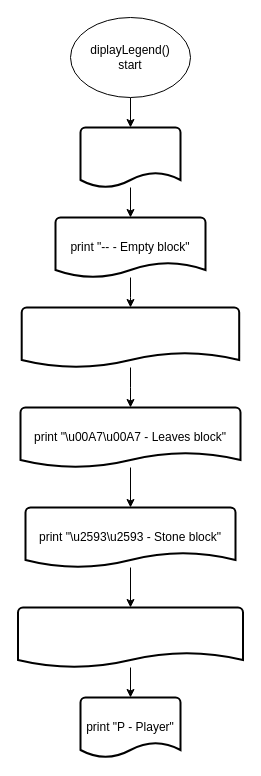
Image size: 261x776. Some labels were removed from this diagram. Here are the shapes that lost their labels. From the top down, the centre of each, then its label:
the point at 130,157: print "Legend:"
the point at 130,337: print "\u2592\u2592 - Wood block"
the point at 130,637: print "\u00B0\u00B0- Iron ore block"
